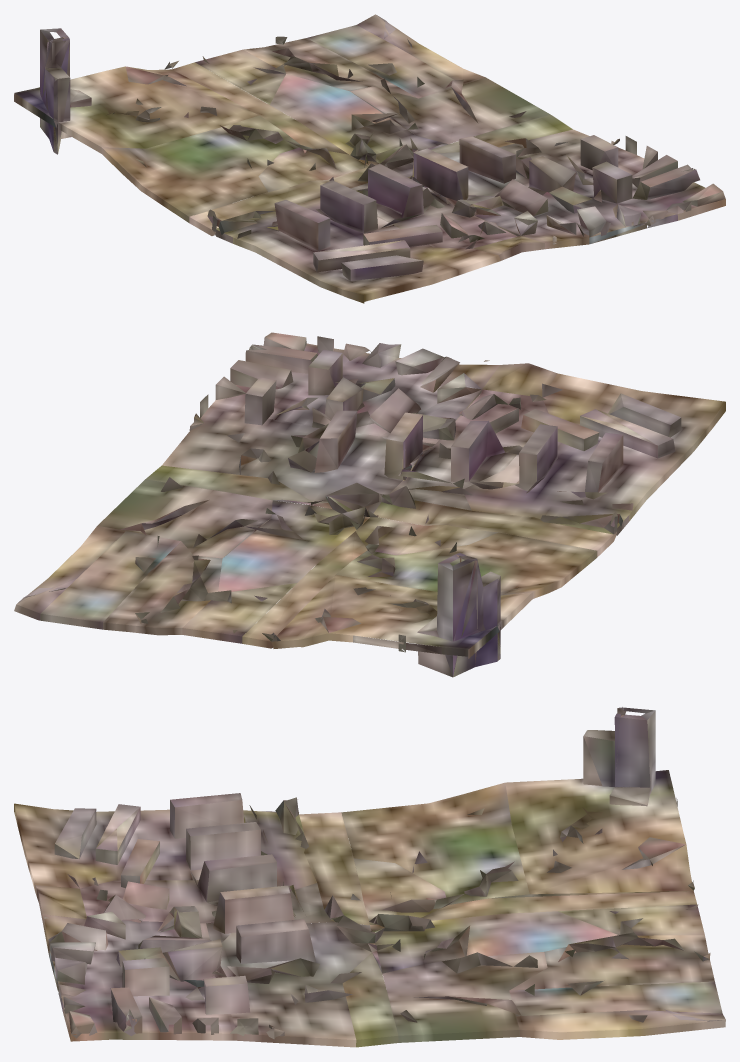
3 renders of one model, top to bottom at view 1: azimuth 30°, elevation 25°; view 2: azimuth 150°, elevation 25°; view 3: azimuth 270°, elevation 25°, orthographic. The views are drawn at different scales.
Parts seen in each view (by area): view 1: Mesh_0; view 2: Mesh_0; view 3: Mesh_0.
Boxes of the visible parts, x1,y1,x2,y2 form: Mesh_0: (14,14,725,303); Mesh_0: (14,332,725,677); Mesh_0: (14,707,725,1047).
Bounding box in the file's own units: 532 × 124 × 659.
1 material, 1 textured.
